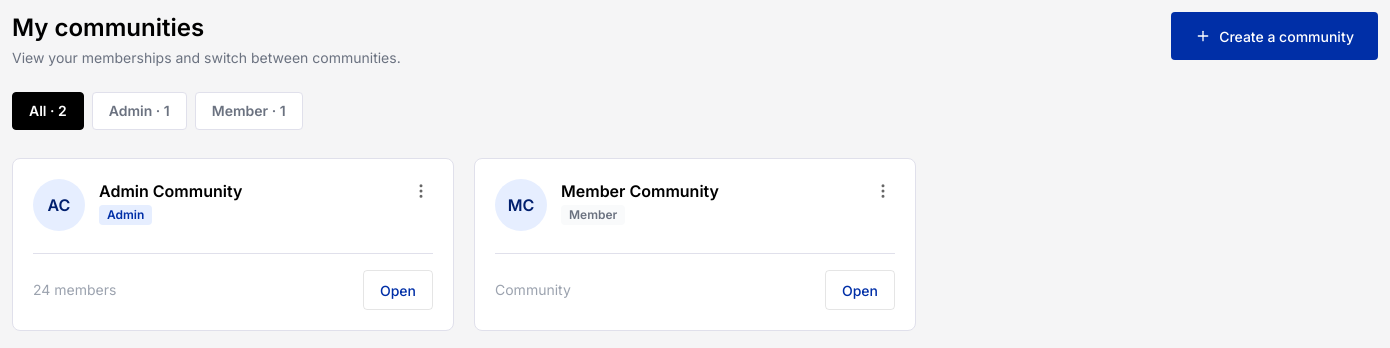
Test: MyCommunities desktop view › shows membership counts, filters cards by role, and opens the community menu
Expected: the button "All · 2" is shown, [12,92,84,130]
Expected: the button "Member · 1" is shown, [195,92,303,130]
Click the button "Admin · 1".
click(139, 111)  # box [92,92,187,130]
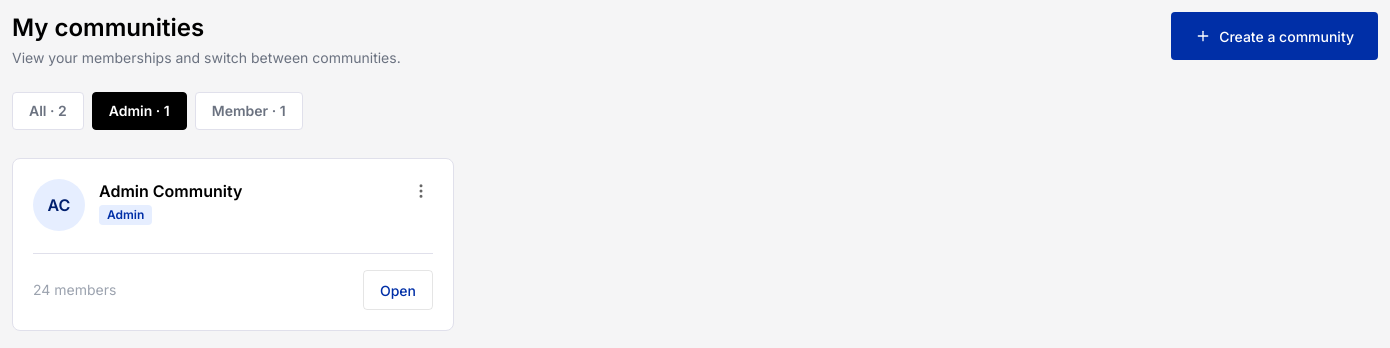
Expected: the element showing "AC Admin Community Admin 24 members Open" is shown, [12,158,454,331]
Result: the heading "Member Community" no longer shows "Member Community"
Click the button named "More options for Admin Community".
click(421, 191)  # box [405,175,437,207]
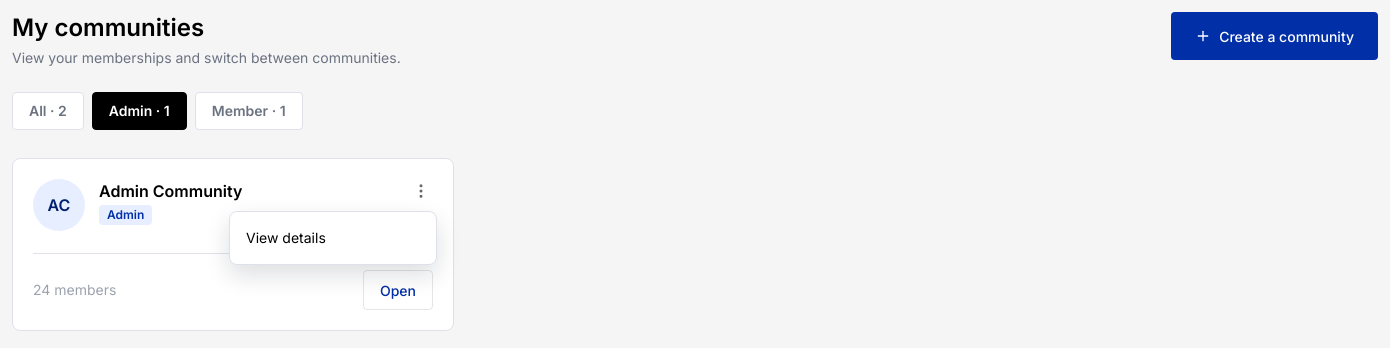
Result: the button "View details" is shown at [230,216,436,260]
